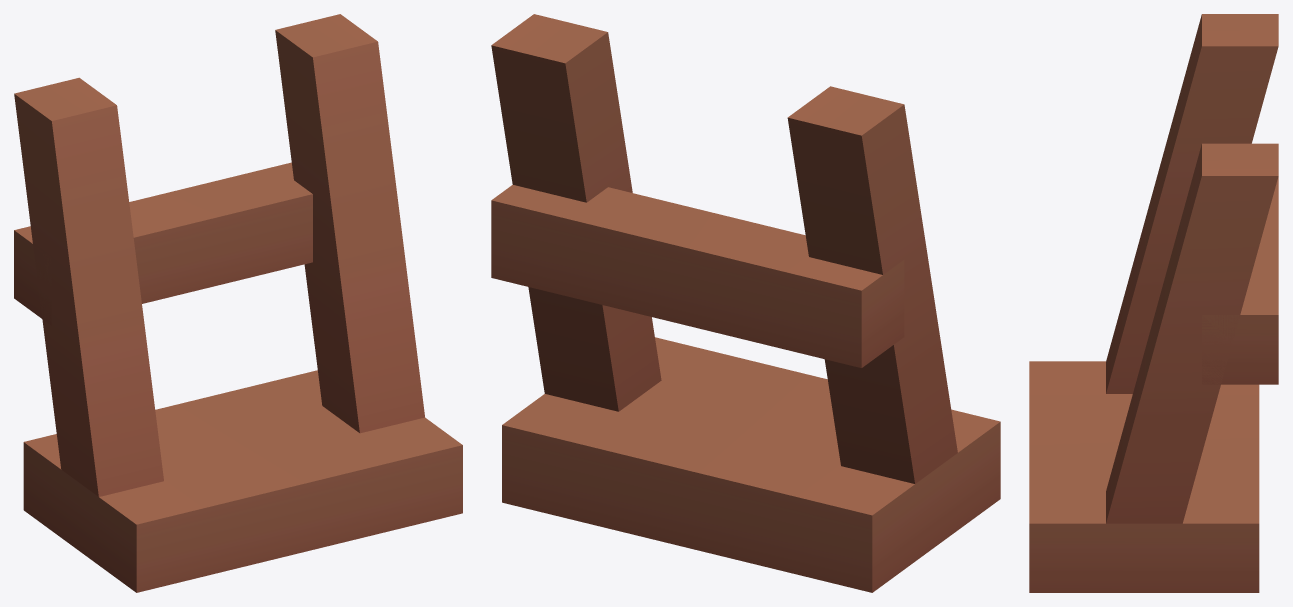
File: kay-suporte-armas.gltf
3 views of the same model, side by side, from view 1: azimuth 30°, elevation 25°; view 2: azimuth 150°, elevation 25°; view 3: azimuth 270°, elevation 25° (orthographic). The views are drawn at different scales.
Visible parts, largest first — view 1: weaponrack; view 2: weaponrack; view 3: weaponrack.
Part boxes in pixels (left/top/right/bottom): weaponrack: left=14, top=14, right=462, bottom=592; weaponrack: left=491, top=14, right=1000, bottom=592; weaponrack: left=1029, top=14, right=1278, bottom=592.
Bounding box in the file's own units: 1 × 1.2 × 0.65.
Materials: 1 (1 with a texture image).
